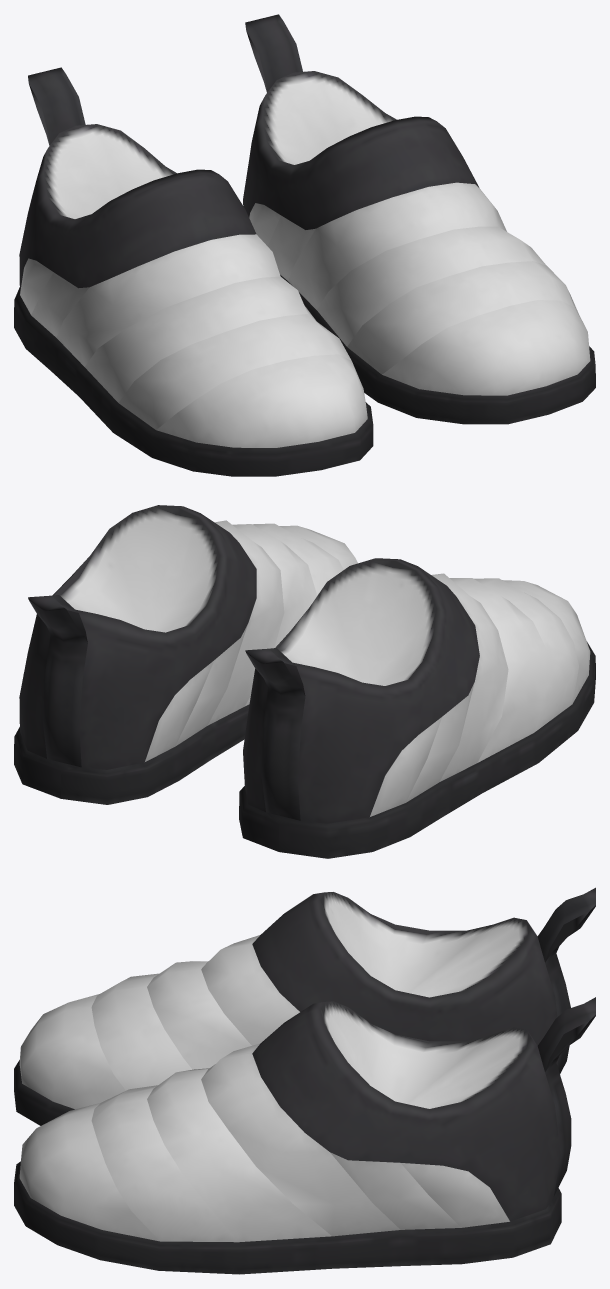
The model's file is p0_ftw1003_00_ftw00.gltf.
3 views of the same model, one above another, from view 1: azimuth 30°, elevation 25°; view 2: azimuth 150°, elevation 25°; view 3: azimuth 270°, elevation 25° (orthographic). The views are drawn at different scales.
Parts seen in each view (by area): view 1: ftw00_shoes_mesh_shape:shoes; view 2: ftw00_shoes_mesh_shape:shoes; view 3: ftw00_shoes_mesh_shape:shoes.
Part boxes in pixels (bbox=[...]): ftw00_shoes_mesh_shape:shoes: bbox=[14, 14, 595, 476]; ftw00_shoes_mesh_shape:shoes: bbox=[14, 505, 595, 858]; ftw00_shoes_mesh_shape:shoes: bbox=[14, 887, 595, 1274].
Size of what is drawn, in the model's own units: 0.2304 by 0.1088 by 0.264.
Materials: 1 (1 with a texture image).
